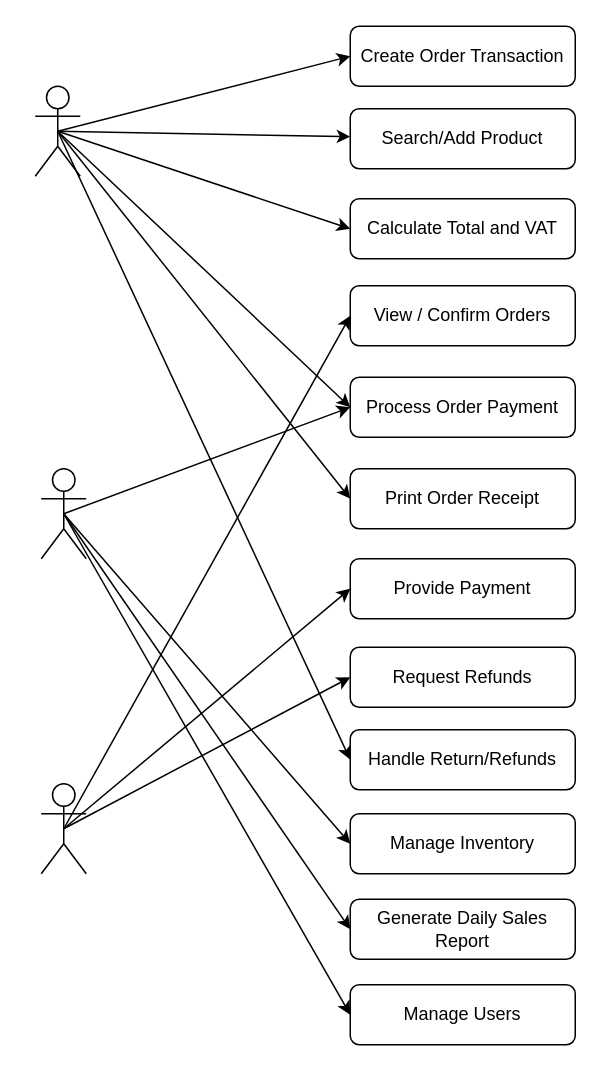
Some shapes in this 602 by 1071 pixel diagram are drawn without their labels. Each missing label, with the box of its shape:
Actor Admin: (40, 467, 86, 559)
Actor Cashier: (34, 85, 80, 176)
Actor Customer: (40, 782, 86, 874)
